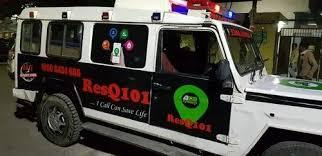ER: (14, 3, 322, 156)
